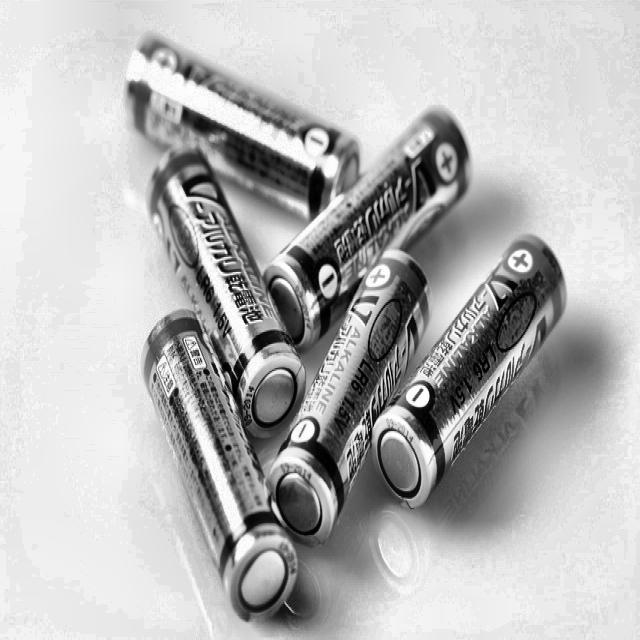drycell: (373, 236, 566, 509), (265, 111, 471, 351), (267, 249, 431, 548), (144, 311, 298, 623), (148, 150, 306, 438), (127, 38, 360, 219)
